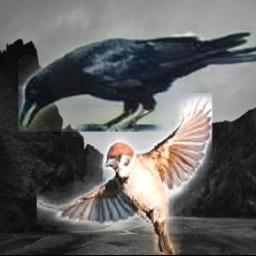Crow: (20, 30, 256, 132)
Sparrow: (38, 93, 214, 255)
